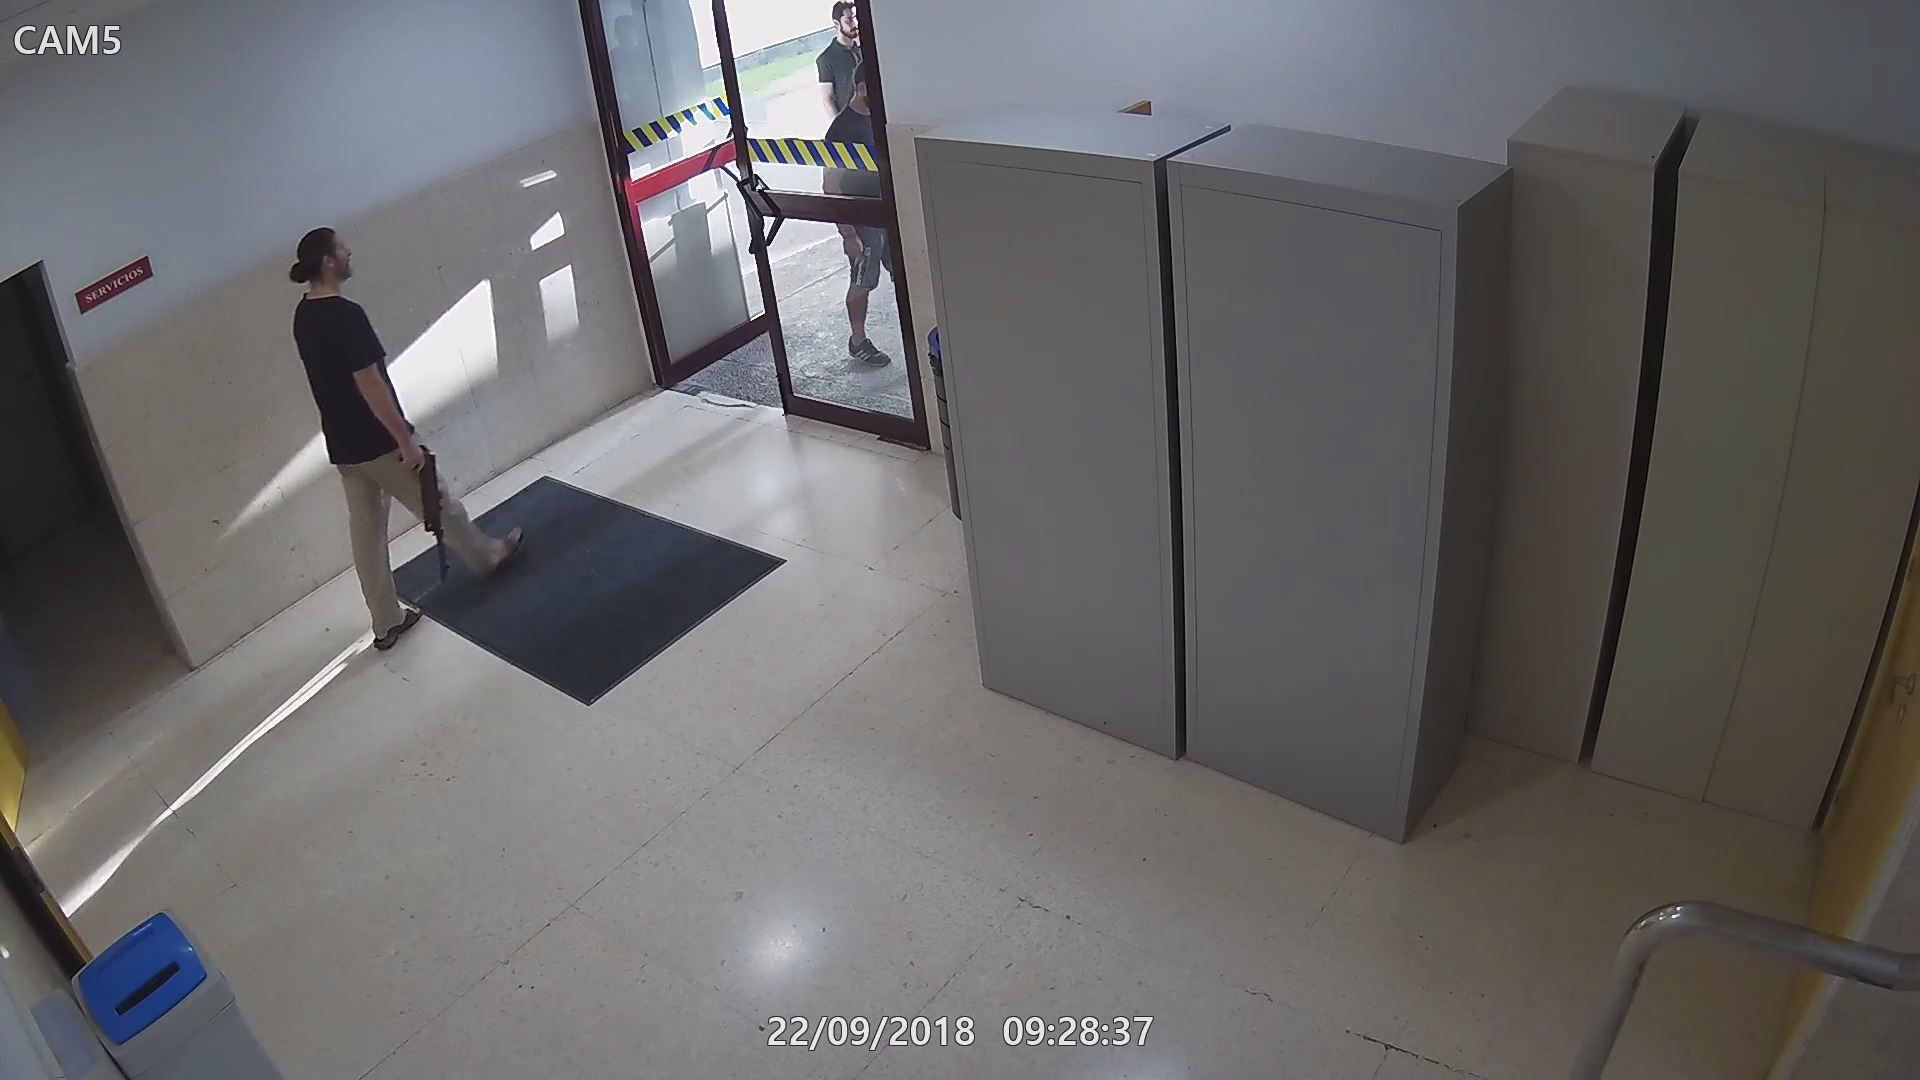Handgun: (831, 239, 878, 305)
Short_rifle: (392, 440, 454, 582)
